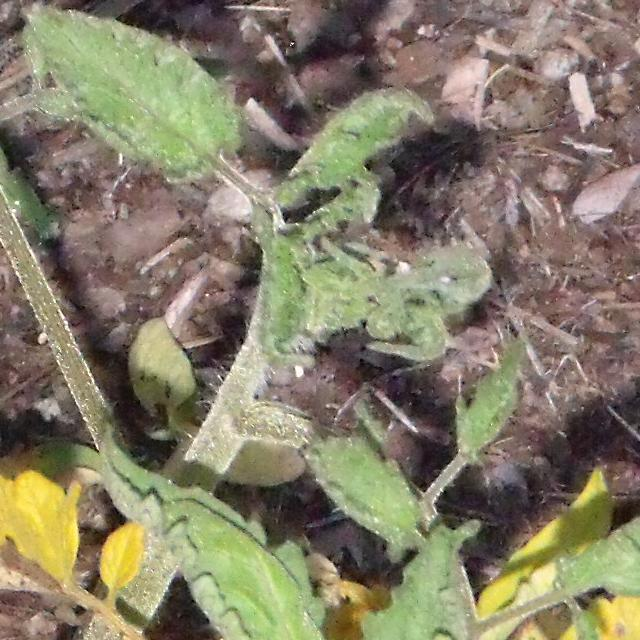Tomato leaf bacterial spot: (141, 441, 378, 640)
